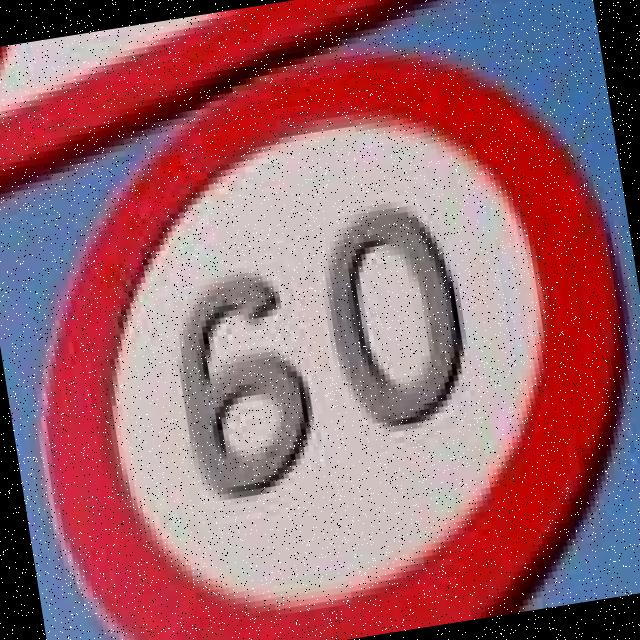Ograniczenie predkosci do 60: (0, 14, 640, 640)
